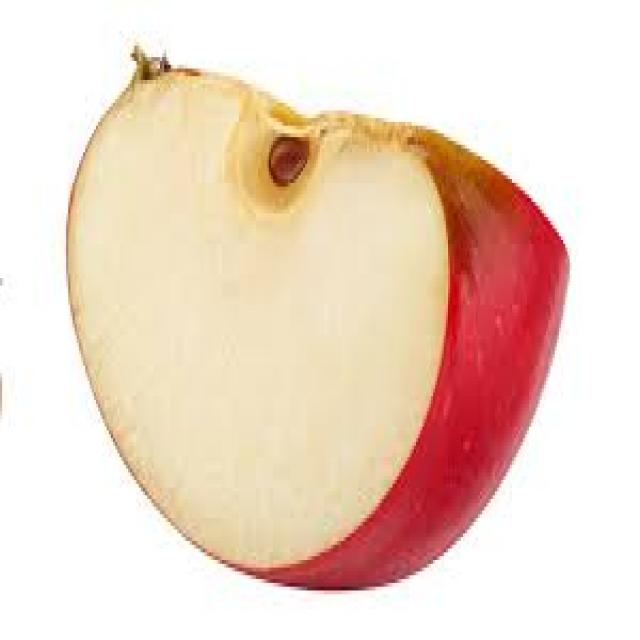Apple: (63, 51, 571, 588)
